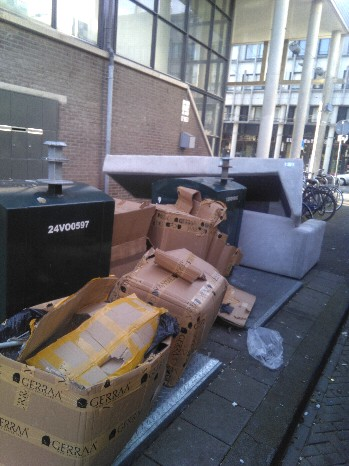Container: (0, 176, 110, 281), (161, 181, 237, 224)
Papier: (9, 320, 174, 454), (136, 249, 226, 348), (166, 213, 255, 269), (118, 203, 168, 263)
